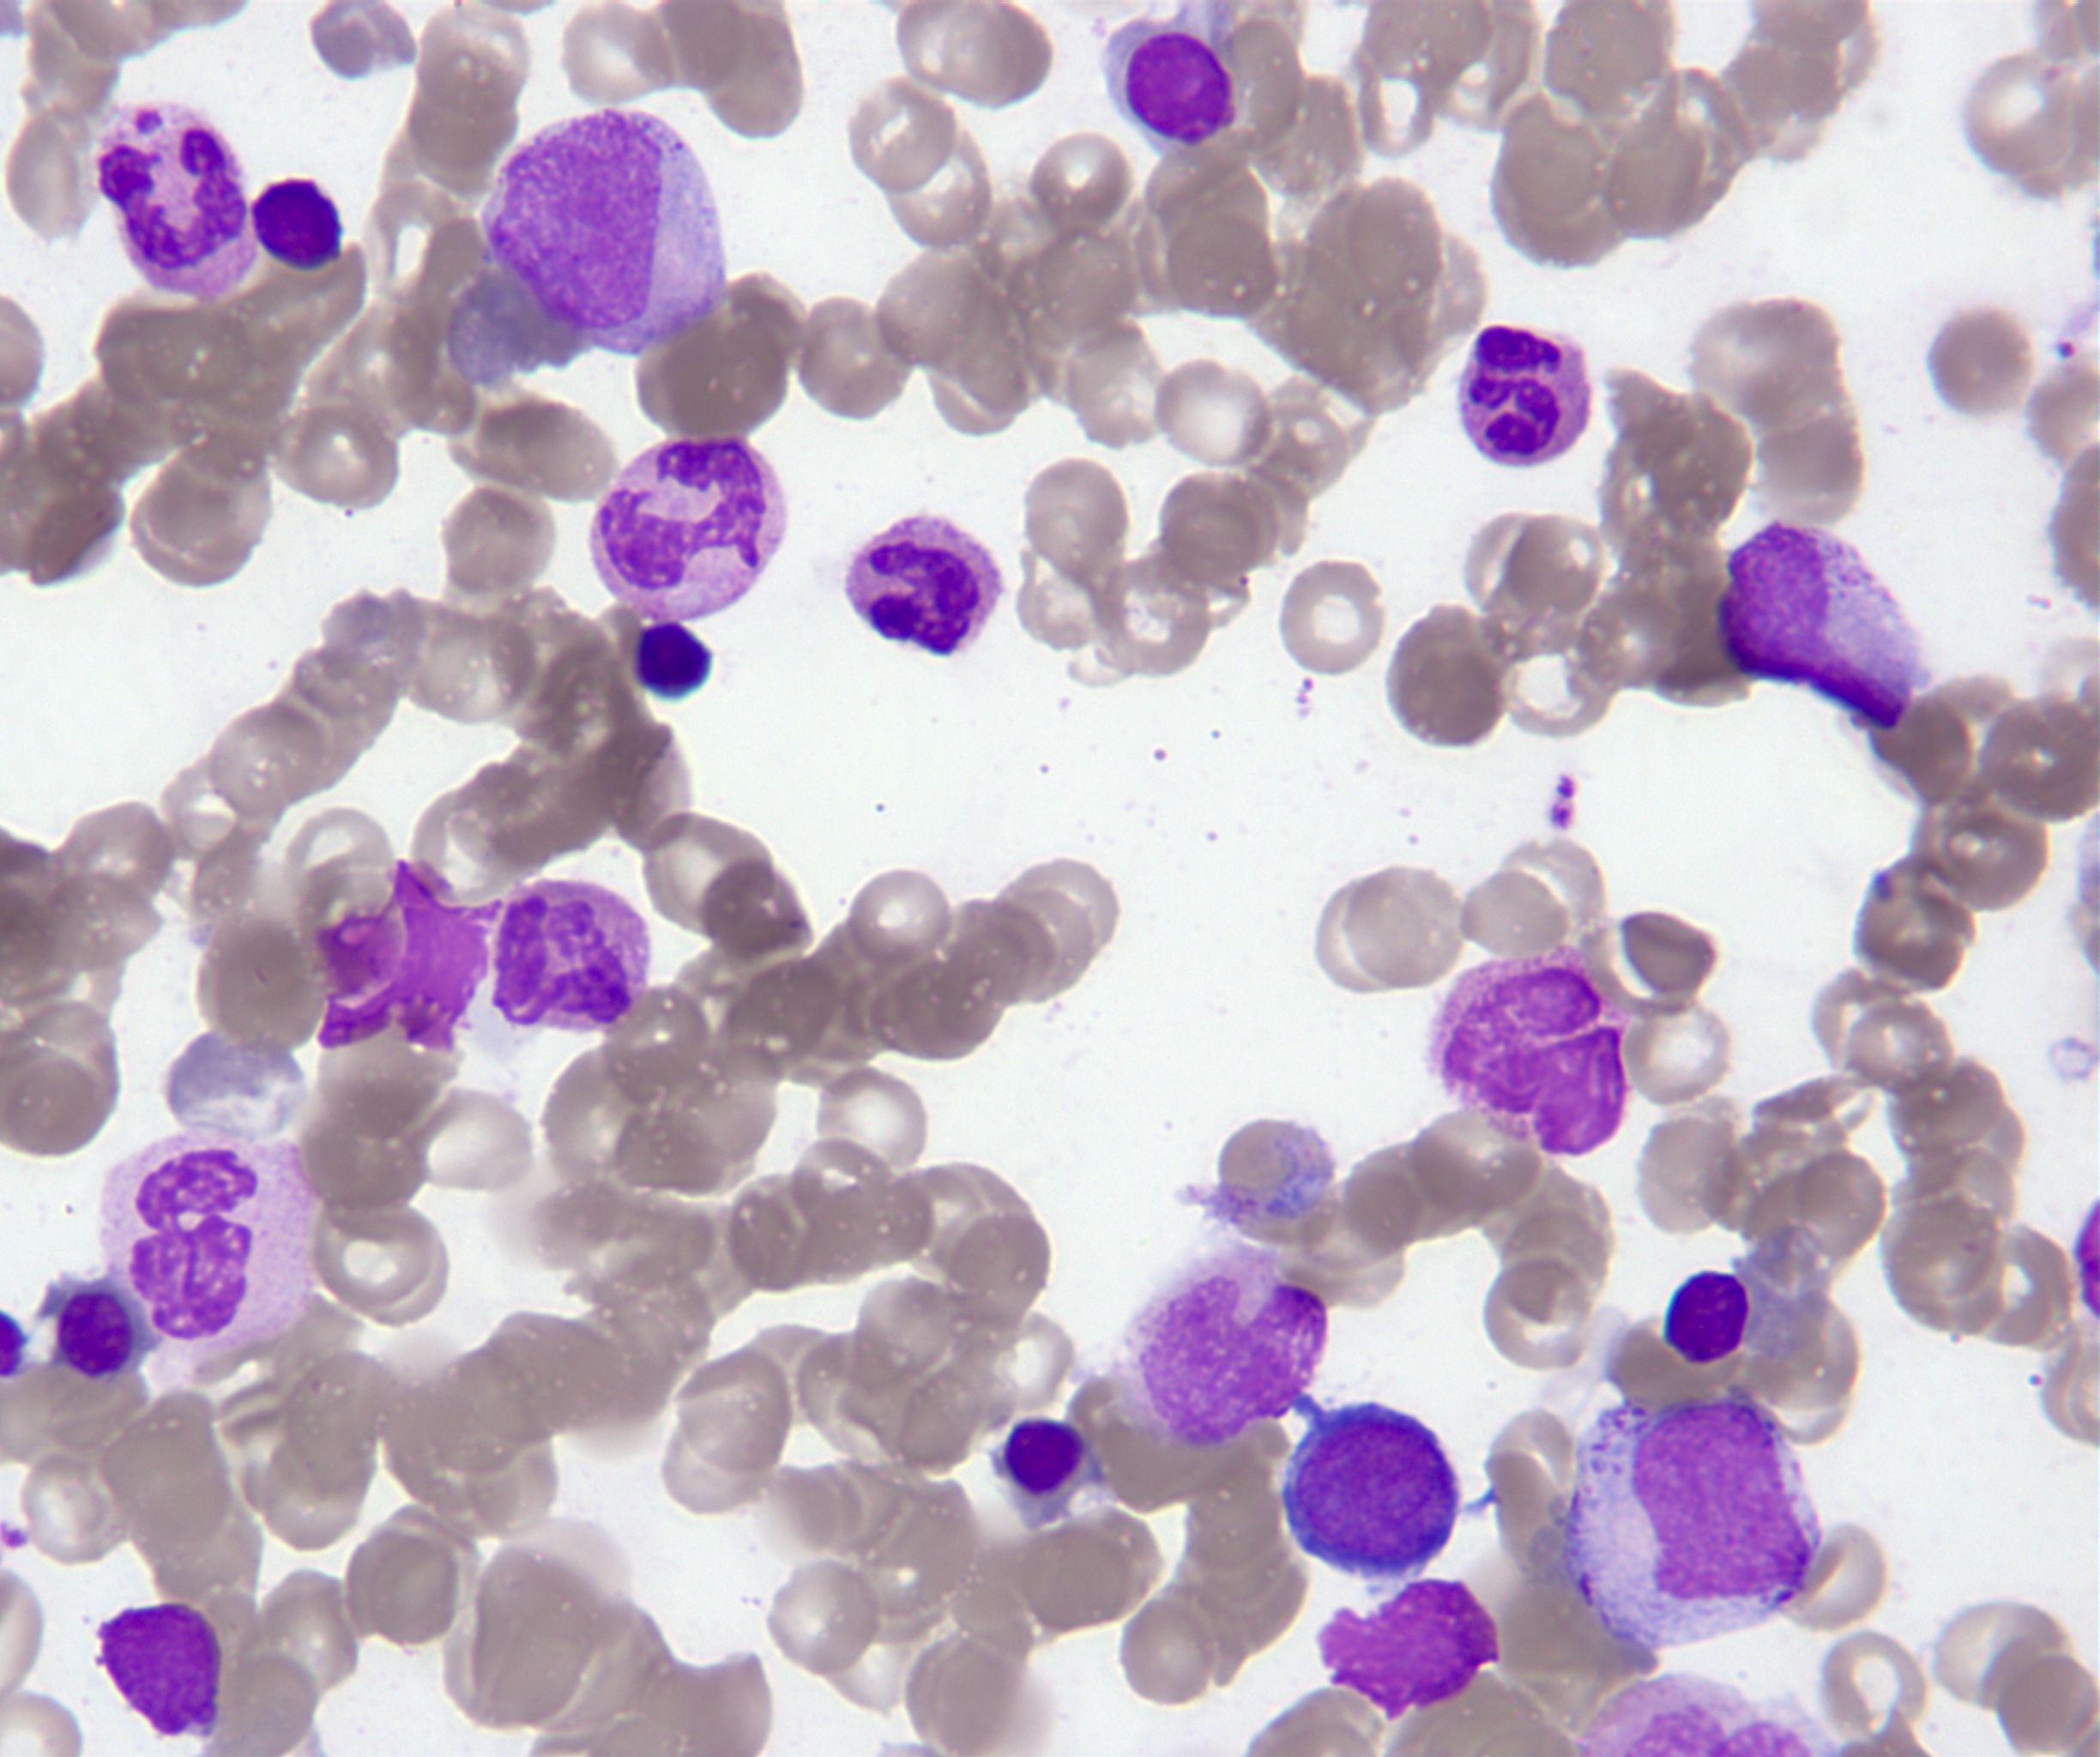23: (1275, 1396, 1465, 1584)
24: (1095, 12, 1252, 157), (33, 1261, 160, 1385), (991, 1410, 1106, 1527), (1659, 1256, 1762, 1370)
3: (1554, 1382, 1831, 1658), (473, 96, 727, 363)
32: (248, 173, 349, 272), (628, 616, 715, 701)
4: (1711, 506, 1931, 738), (1109, 1239, 1331, 1453)
5: (581, 429, 795, 619), (80, 94, 255, 309)
6: (91, 1129, 331, 1368), (485, 862, 661, 1040), (837, 501, 1008, 663), (1444, 318, 1599, 473)
x: (1418, 939, 1641, 1162), (85, 1596, 232, 1741)
